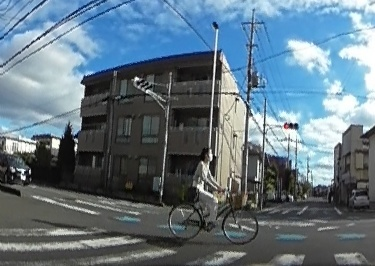person: (189, 143, 219, 225)
